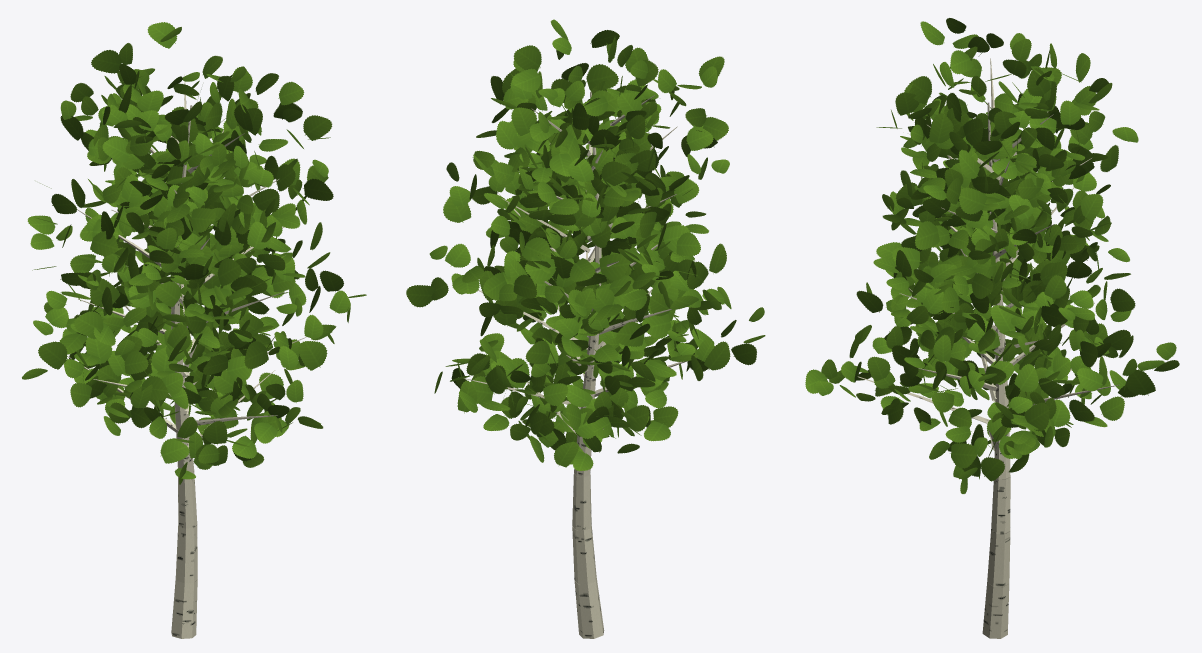
The model's file is Aspen_LOD1.fbx.
3 renders of one model, left to right at view 1: azimuth 30°, elevation 25°; view 2: azimuth 150°, elevation 25°; view 3: azimuth 270°, elevation 25°, orthographic.
Parts seen in each view (by area): view 1: Aspen_LOD1; view 2: Aspen_LOD1; view 3: Aspen_LOD1.
Boxes of the visible parts, <box> form: Aspen_LOD1: <box>22,22,366,638</box>; Aspen_LOD1: <box>406,19,765,638</box>; Aspen_LOD1: <box>805,18,1179,638</box>.
Size of the model in its own units: 461 by 876 by 531.
Materials: 2 (2 with a texture image).
